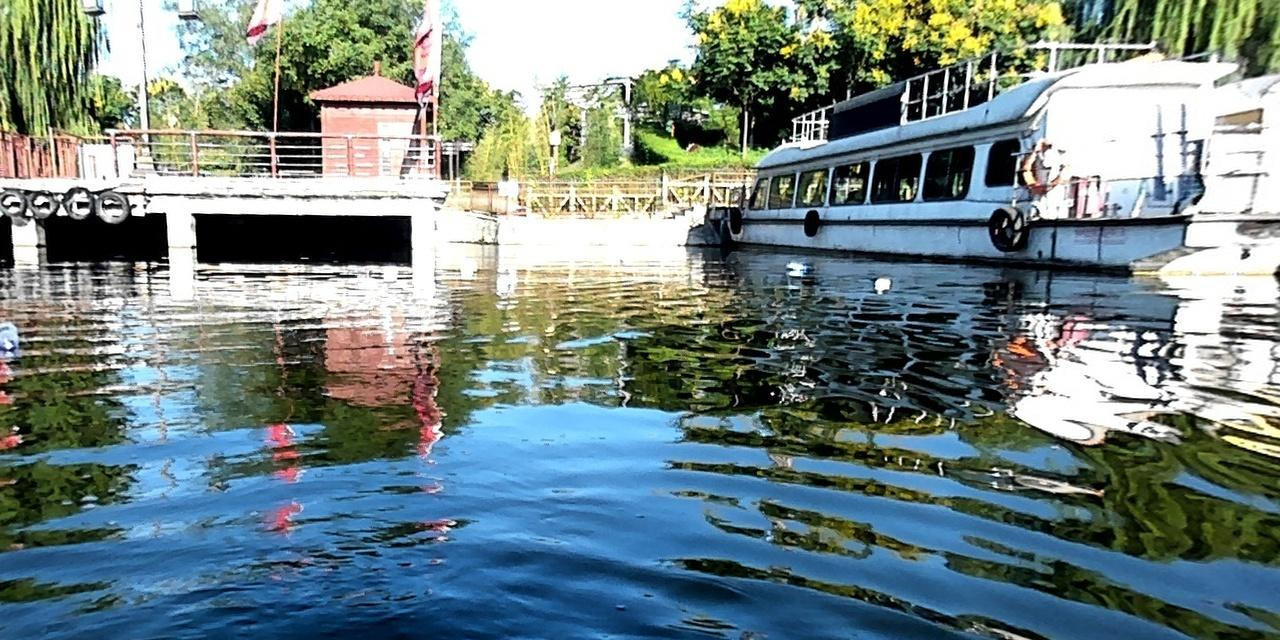bottle: (0, 317, 18, 352), (780, 259, 814, 275)
